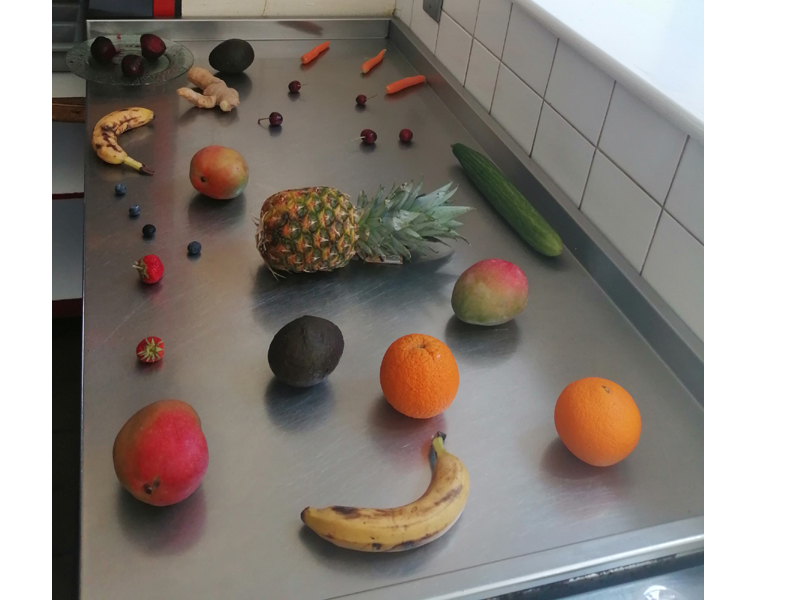avocado: (263, 310, 349, 399), (207, 35, 257, 75)
banana: (285, 426, 474, 559), (87, 98, 159, 177)
beet: (80, 32, 117, 69), (140, 27, 169, 57)
blueberry: (103, 180, 134, 200), (121, 200, 147, 219), (179, 238, 205, 256), (139, 224, 157, 238)
carrot: (382, 70, 437, 106), (293, 33, 339, 74), (352, 45, 397, 74)
cherry: (250, 104, 293, 136), (387, 124, 425, 159), (348, 127, 387, 151), (277, 72, 310, 96), (347, 87, 372, 109)
ginger: (176, 66, 246, 118)
mango: (112, 392, 220, 533), (443, 253, 528, 336), (187, 144, 257, 202)
orange: (550, 369, 649, 475), (374, 325, 468, 423)
pineapple: (251, 186, 464, 271)
strawberry: (118, 332, 174, 364), (126, 251, 173, 289)
